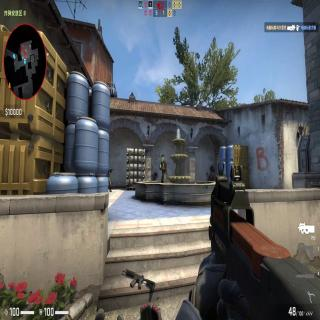T-Head: (161, 153, 165, 160)
